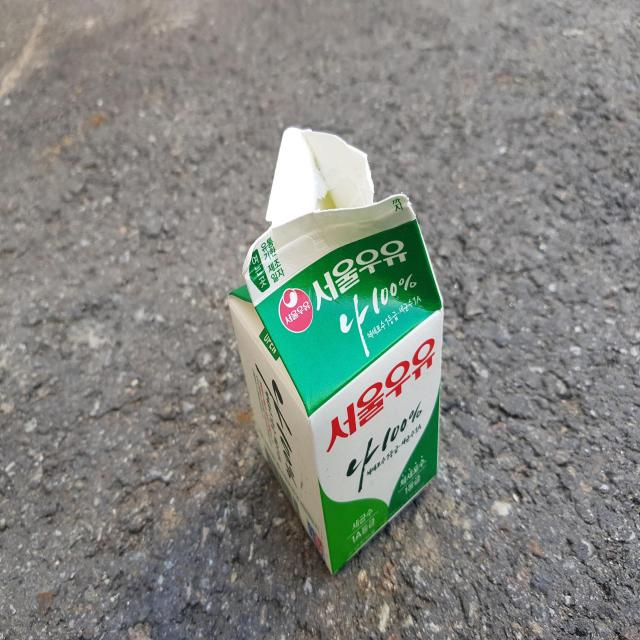paperpack: (229, 127, 443, 573)
